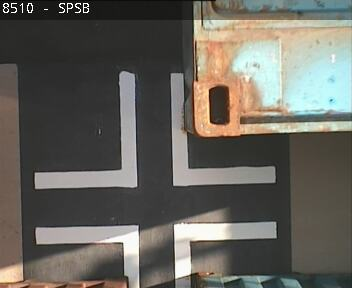groundmarker_1: (35, 71, 275, 193), (35, 221, 276, 288)
